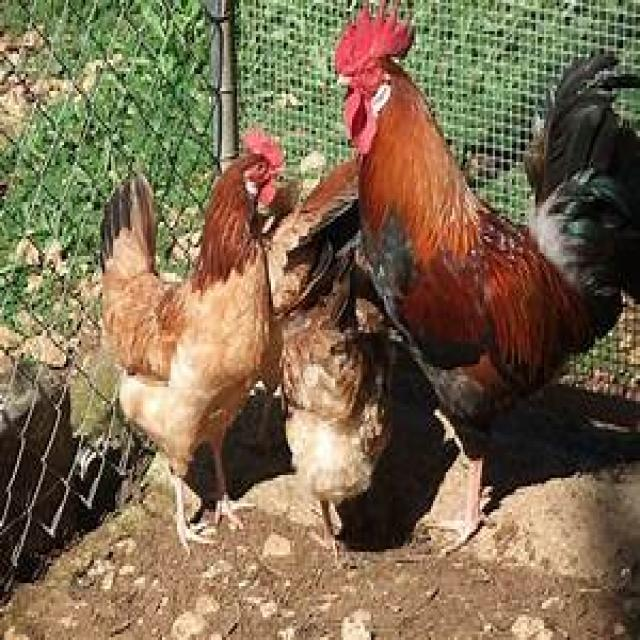hen: (335, 8, 640, 536), (102, 132, 282, 549)
